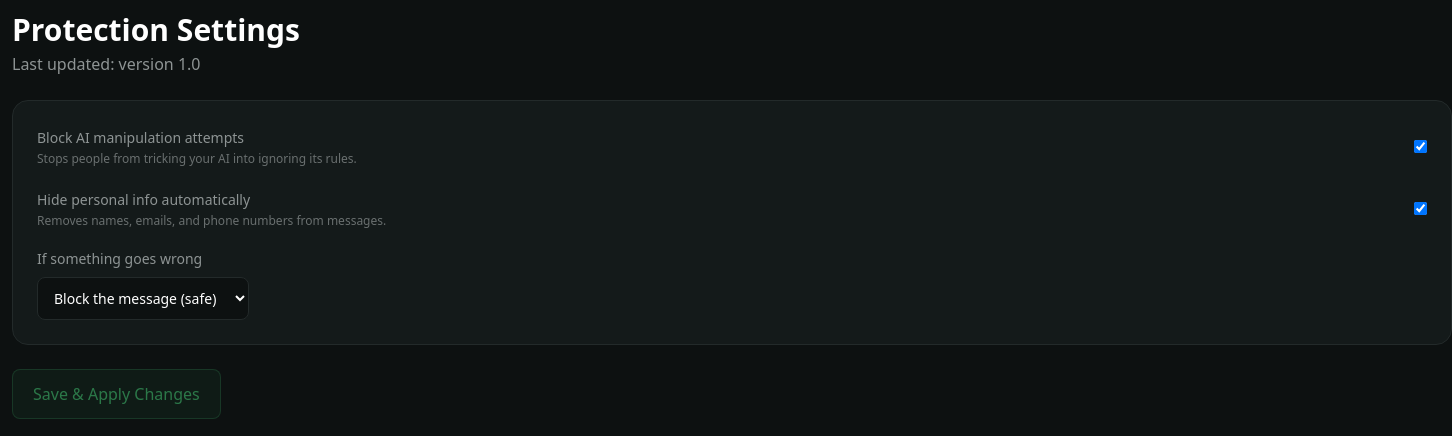
PolicyPage integration › hydrates config from GET and deploys changes via PUT
Expected: the text "Last updated: version 1.0" is shown, [12,53,200,75]
Click the checkbox named "Block AI manipulation attempts". click: x=1420, y=146
box: [1414,140,1427,152]
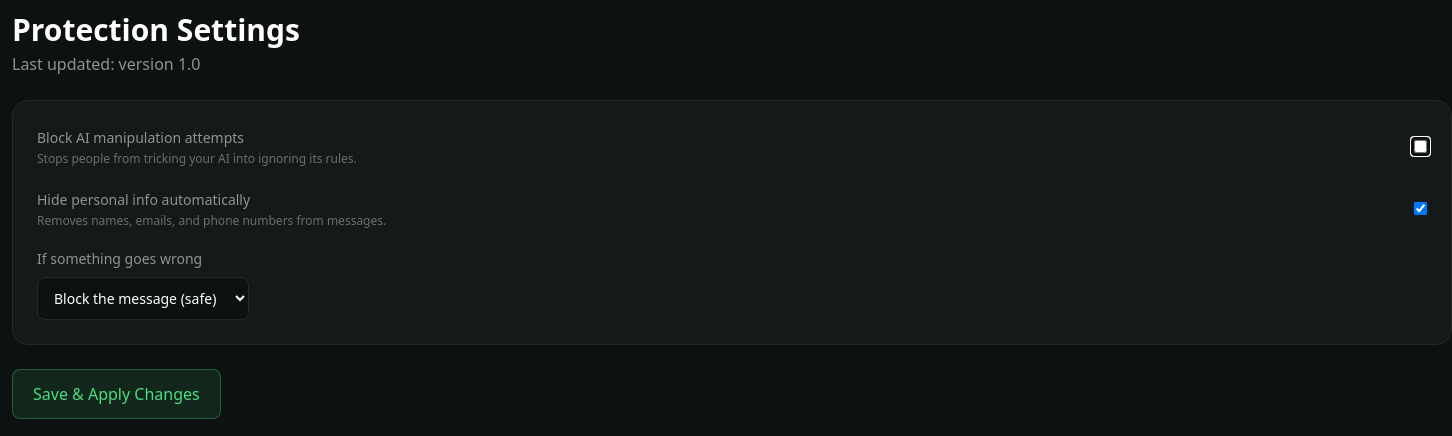
Click the button with test id "deploy-changes-button". click: x=116, y=394
box: [12,369,221,419]
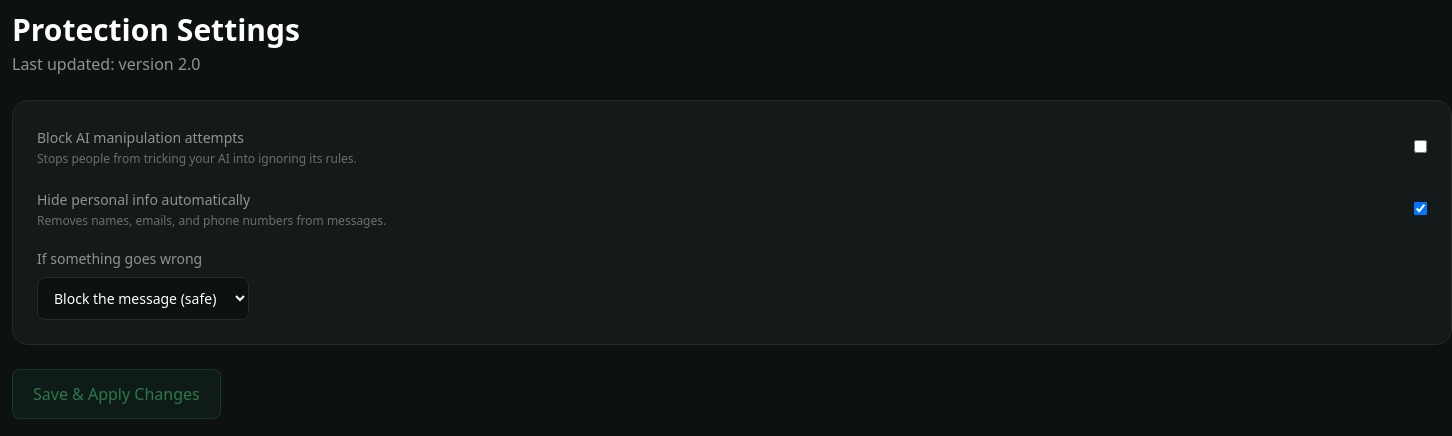
Expected: the text "Last updated: version 2.0" is shown, [12,53,200,75]
